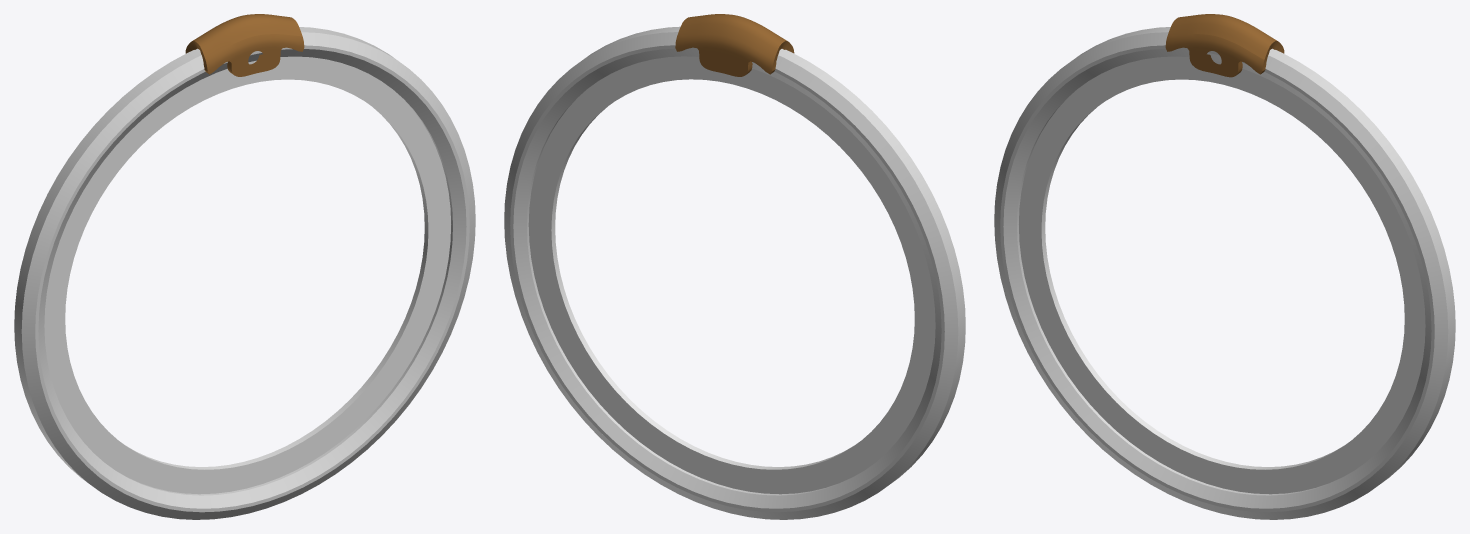
File: stargate3.dae
3 views of the same model, side by side, from view 1: azimuth 30°, elevation 25°; view 2: azimuth 150°, elevation 25°; view 3: azimuth 330°, elevation 25° (orthographic).
Parts seen in each view (by area): view 1: Main ring, Cylinder.001, Chevron; view 2: Main ring, Cylinder.001, Chevron; view 3: Main ring, Cylinder.001, Chevron.
Boxes of the visible parts, x1=… form: Main ring: x1=14, y1=27, x2=475, y2=519; Cylinder.001: x1=44, y1=56, x2=450, y2=494; Chevron: x1=185, y1=14, x2=304, y2=76; Main ring: x1=504, y1=26, x2=965, y2=519; Cylinder.001: x1=528, y1=56, x2=935, y2=494; Chevron: x1=675, y1=14, x2=794, y2=76; Main ring: x1=994, y1=27, x2=1455, y2=519; Cylinder.001: x1=1019, y1=56, x2=1425, y2=494; Chevron: x1=1165, y1=14, x2=1284, y2=77.
Size of the model in its own units: 7 by 0.6 by 7.27.
Materials: 2 (1 with a texture image).
